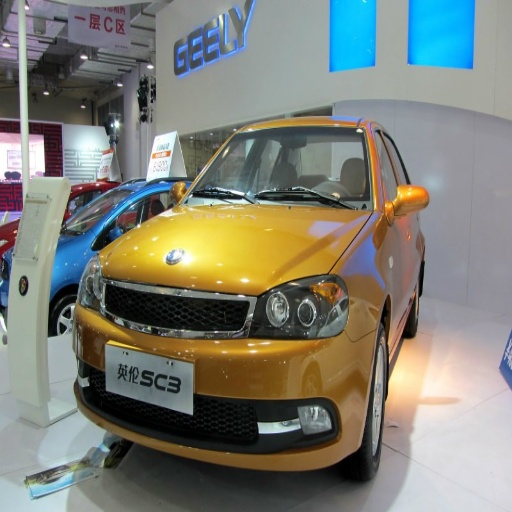front_bumper: (79, 279, 372, 468)
